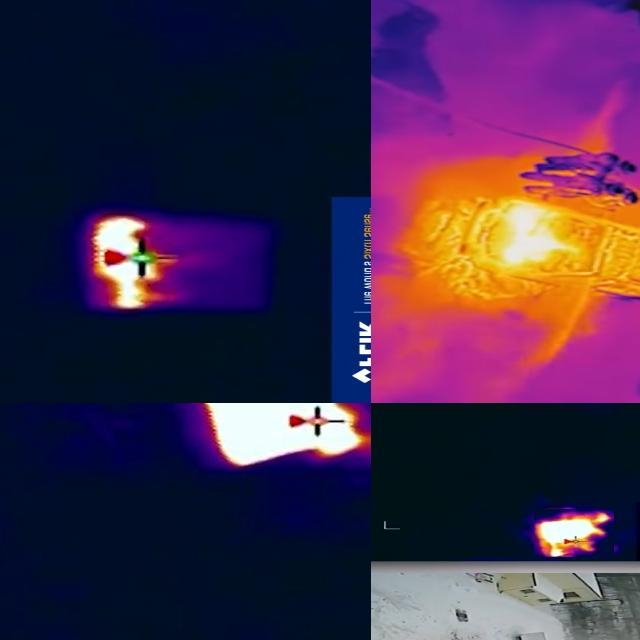fire: (189, 404, 367, 468), (89, 212, 181, 311), (489, 195, 589, 269), (535, 509, 615, 557)
